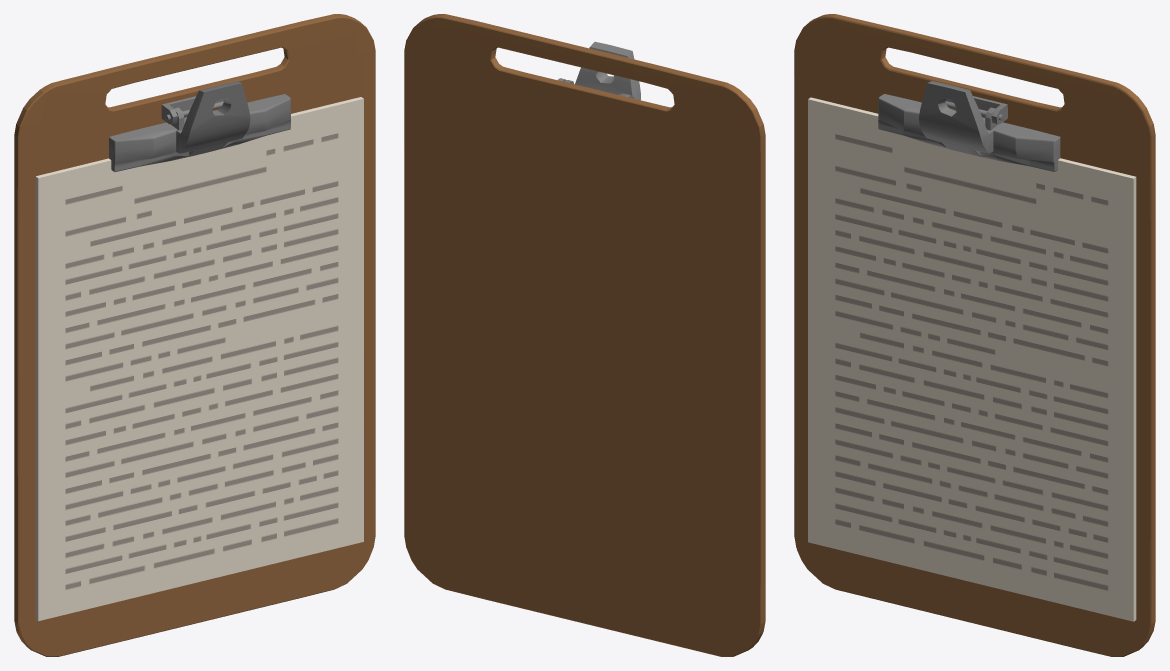
File: clipboard.fbx
The picture shows the model from 3 angles, left to right: view 1: azimuth 30°, elevation 25°; view 2: azimuth 150°, elevation 25°; view 3: azimuth 330°, elevation 25°; orthographic projection.
Parts seen in each view (by area): view 1: _clipboard_v2_NEW:pCube1, _clipboard_v2_NEW:_clipboard; view 2: _clipboard_v2_NEW:_clipboard; view 3: _clipboard_v2_NEW:pCube1, _clipboard_v2_NEW:_clipboard.
Part boxes in pixels (box(x1,y1,x2,y2)): _clipboard_v2_NEW:pCube1: box(35, 97, 363, 621); _clipboard_v2_NEW:_clipboard: box(14, 14, 375, 656); _clipboard_v2_NEW:_clipboard: box(404, 14, 765, 656); _clipboard_v2_NEW:pCube1: box(808, 97, 1136, 621); _clipboard_v2_NEW:_clipboard: box(794, 14, 1155, 656).
Bounding box in the file's own units: 21.99 × 33.63 × 3.28.
2 materials, 2 textured.
